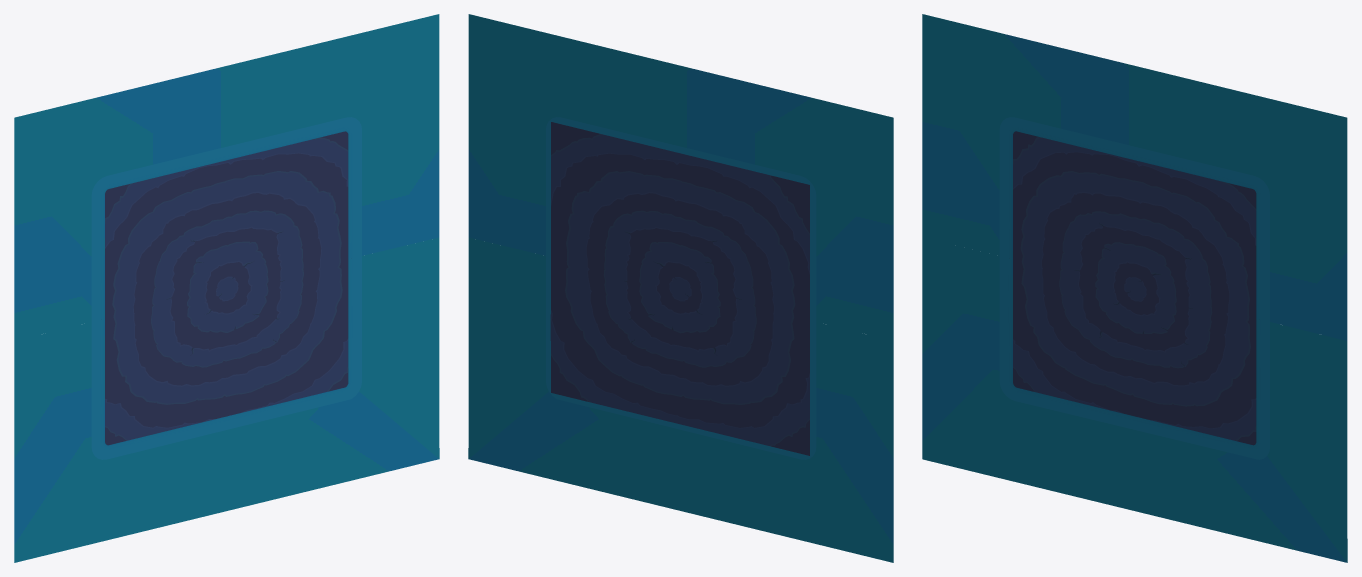
The model's file is bgr_ice_island.fbx.
3 views of the same model, side by side, from view 1: azimuth 30°, elevation 25°; view 2: azimuth 150°, elevation 25°; view 3: azimuth 330°, elevation 25° (orthographic).
Visible parts, largest first — view 1: fog2, fog, ground; view 2: ground, fog2, fog; view 3: fog2, fog, ground.
Part boxes in pixels (x1=…): fog2: x1=14, y1=14, x2=439, y2=340; fog: x1=14, y1=237, x2=439, y2=562; ground: x1=105, y1=131, x2=348, y2=445; ground: x1=550, y1=122, x2=809, y2=455; fog2: x1=468, y1=14, x2=893, y2=340; fog: x1=468, y1=237, x2=893, y2=562; fog2: x1=922, y1=14, x2=1347, y2=340; fog: x1=922, y1=237, x2=1347, y2=562; ground: x1=1013, y1=131, x2=1256, y2=445.
Size of the model in its own units: 9813 by 9826 by 5.
